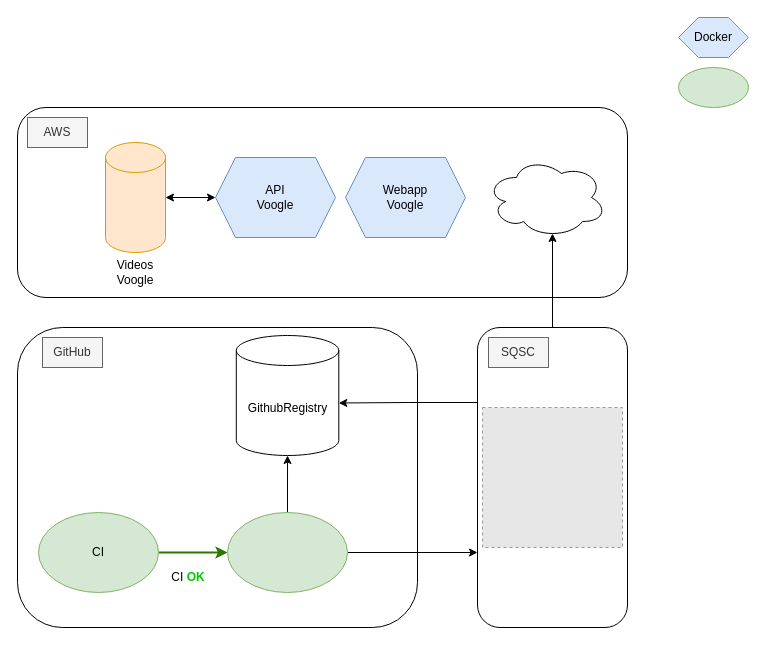
Image size: 766x645. Some labels were removed from this diagram. Grey dashed boxes stand in for pictures. The centre of each missing label's shape, as x and y in pixels:
API: (x=546, y=197)
CD: (x=287, y=552)
Github Action: (x=713, y=87)
S3: (x=135, y=197)
